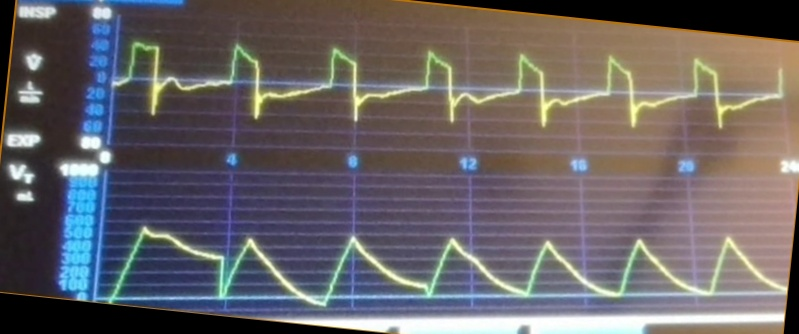Premature_cycling Flow: (119, 39, 786, 141)
Premature_cycling Volume: (105, 220, 782, 308)
